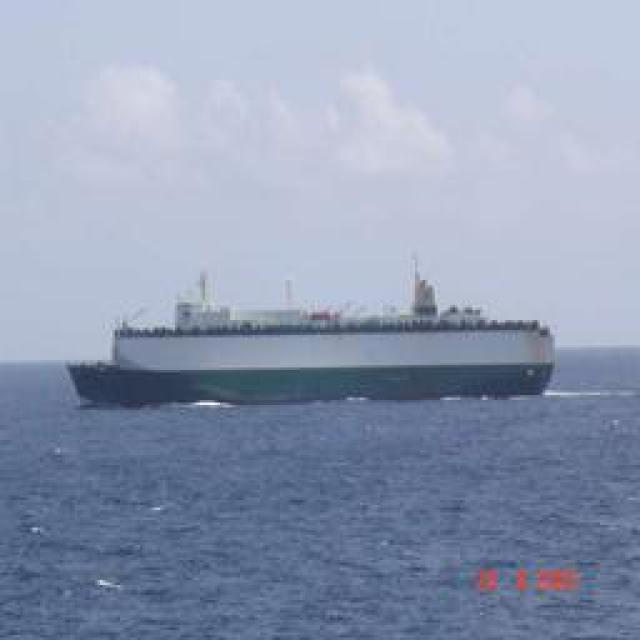Ship: (61, 255, 565, 412)
